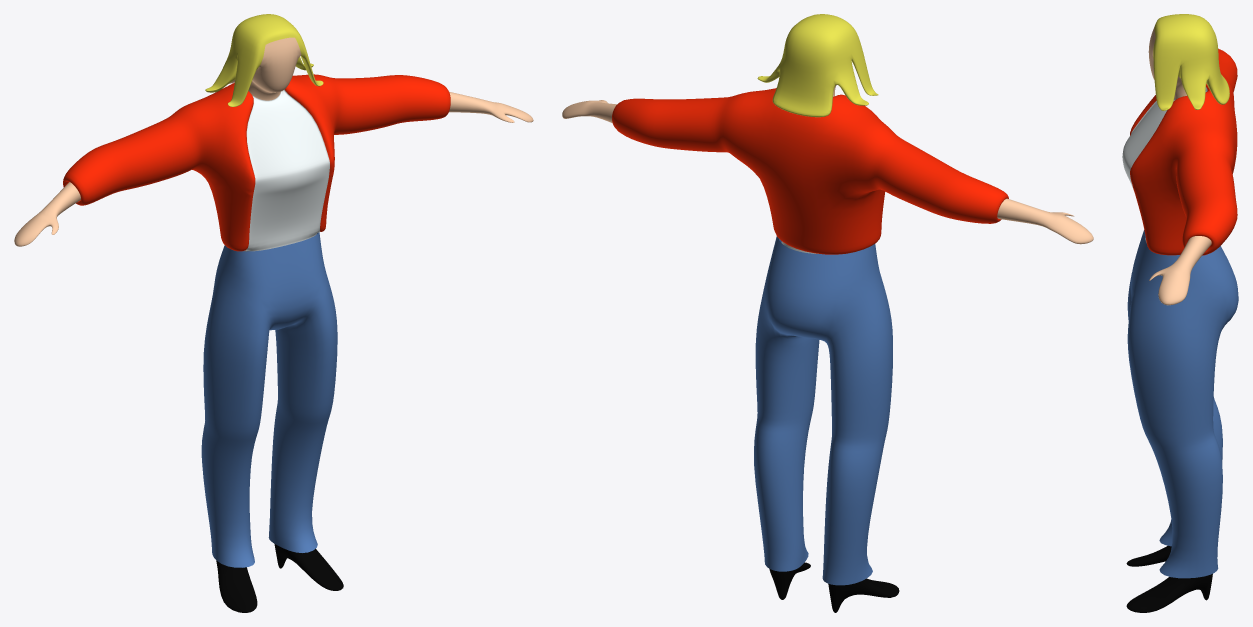
File: kırmızı renkli kadın.fbx
3 views of the same model, side by side, from view 1: azimuth 30°, elevation 25°; view 2: azimuth 150°, elevation 25°; view 3: azimuth 270°, elevation 25° (orthographic). The views are drawn at different scales.
Parts seen in each view (by area): view 1: Cube.004; view 2: Cube.004; view 3: Cube.004.
Part boxes in pixels (left/top/right/bottom): Cube.004: left=14, top=14, right=533, bottom=612; Cube.004: left=562, top=14, right=1093, bottom=612; Cube.004: left=1122, top=14, right=1238, bottom=612.
Size of the model in its own units: 171 by 178 by 32.94.
